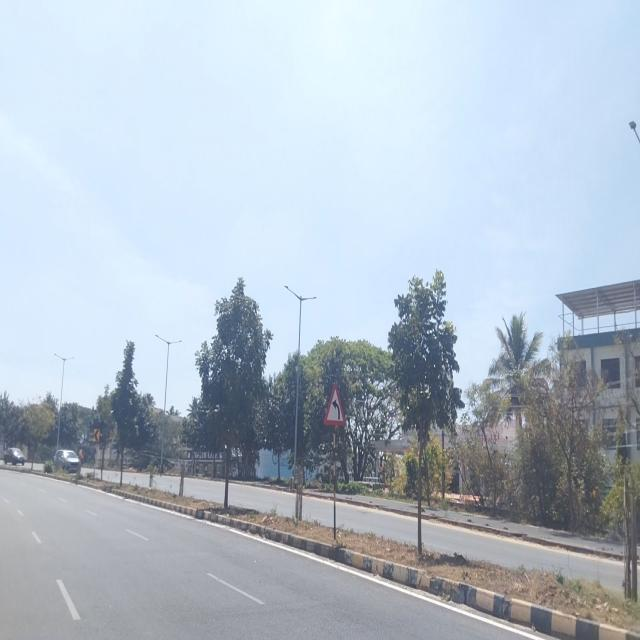bien_cam: (323, 382, 347, 427)
